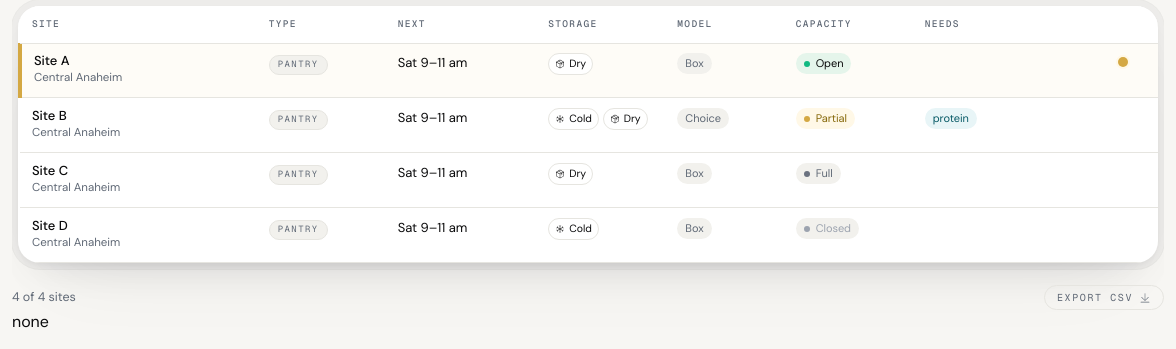
Test: DataTable — FilterContext integration › row mouseenter sets highlightedId in FilterContext
Hover over the row "Site C Central Anaheim Pantry Sat 9–11 am Dry Box Full": (589, 180) [20, 152, 1158, 207]
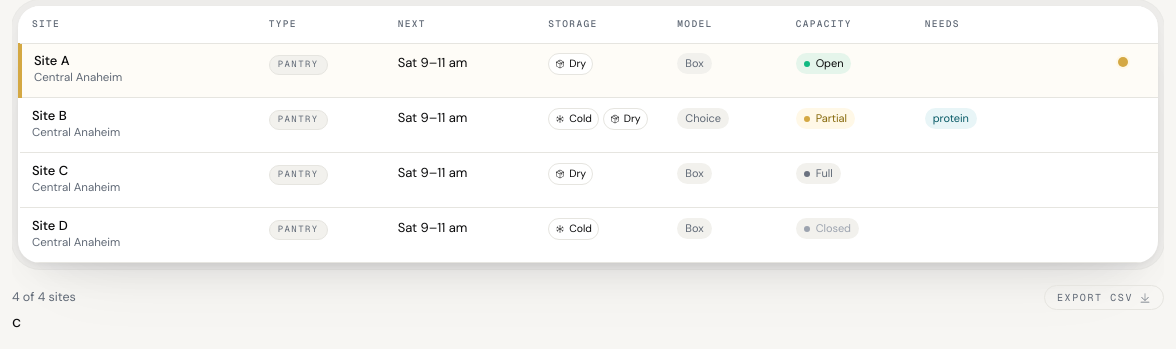
Expected: the text with test id "highlighted" reads "c", [12, 312, 21, 332]
Move the pointer off the row "Site C Central Anaheim Pantry Sat 9–11 am Dry Box Full", box [20, 152, 1158, 207]
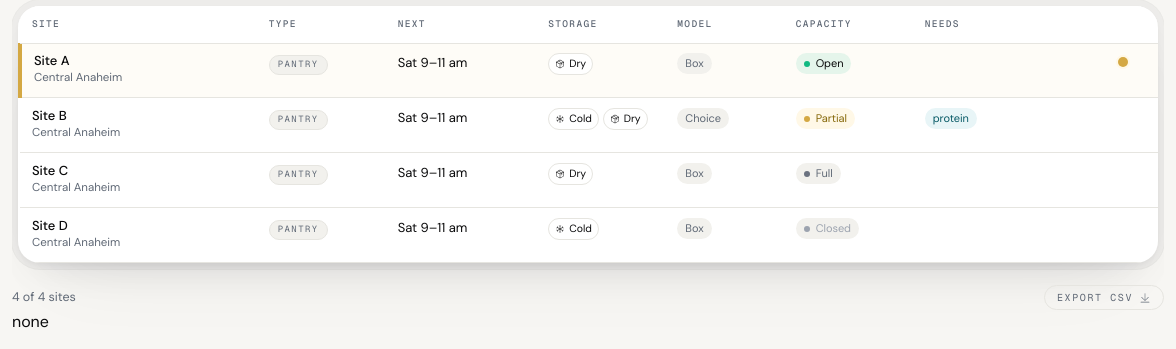
Expected: the text with test id "highlighted" reads "none", [12, 312, 49, 332]
